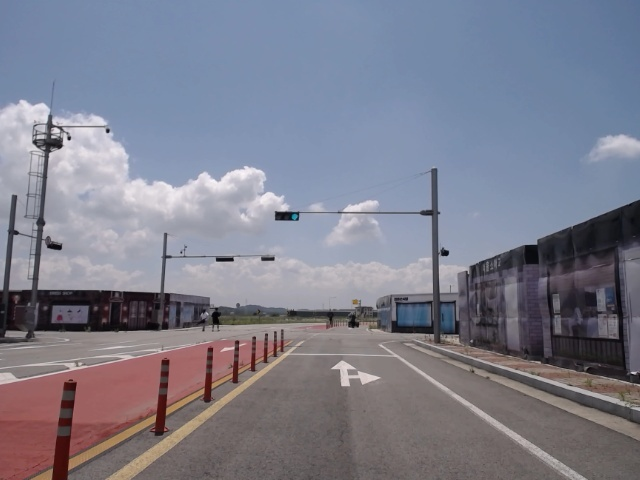green_3: (275, 212, 300, 220)
